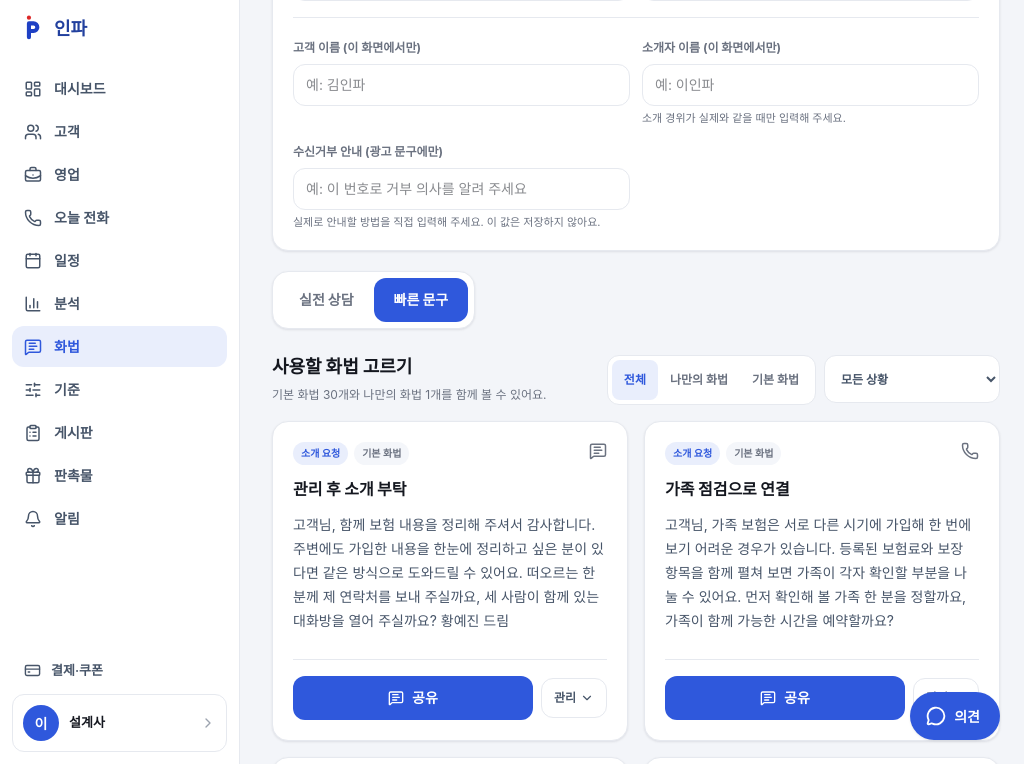
/scripts page state › filters all, personal, and default templates with accessible selected state
The image size is (1024, 764).
(page scrolled)
Click the button "나만의 화법": point(699, 380) 658,360 -> 740,400
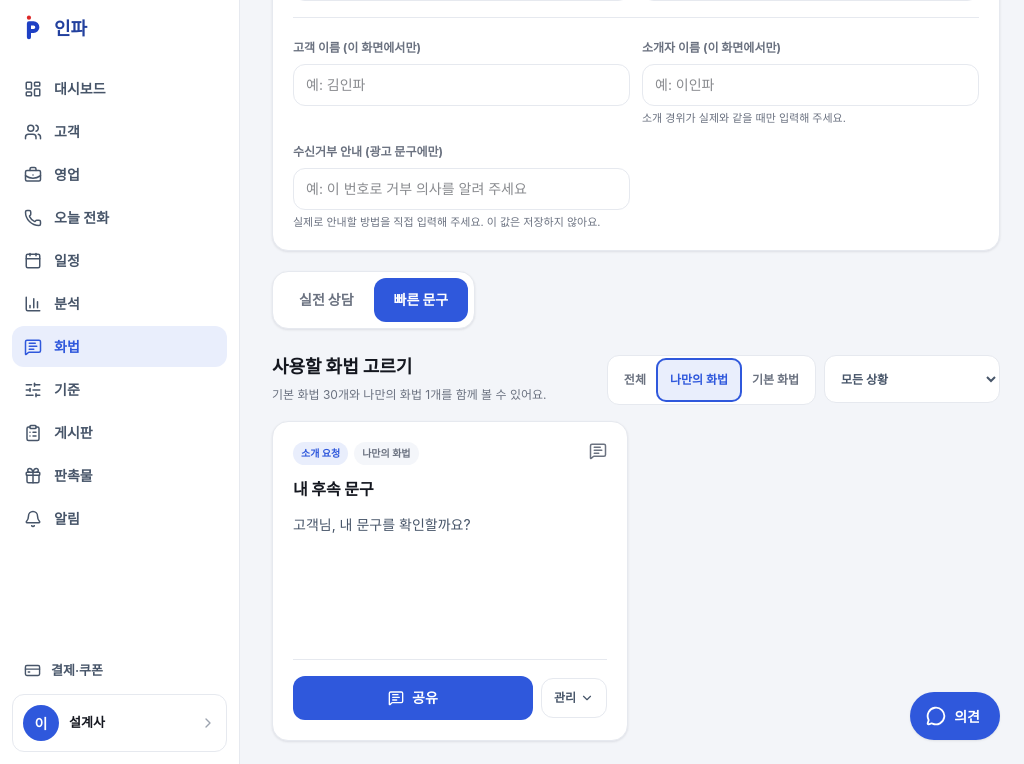
Check: the heading "내 후속 문구" is shown, box 293,479 -> 374,499
Check: the heading "관리 후 소개 부탁" is gone
Click the button "기본 화법": point(776, 380) 740,360 -> 811,400
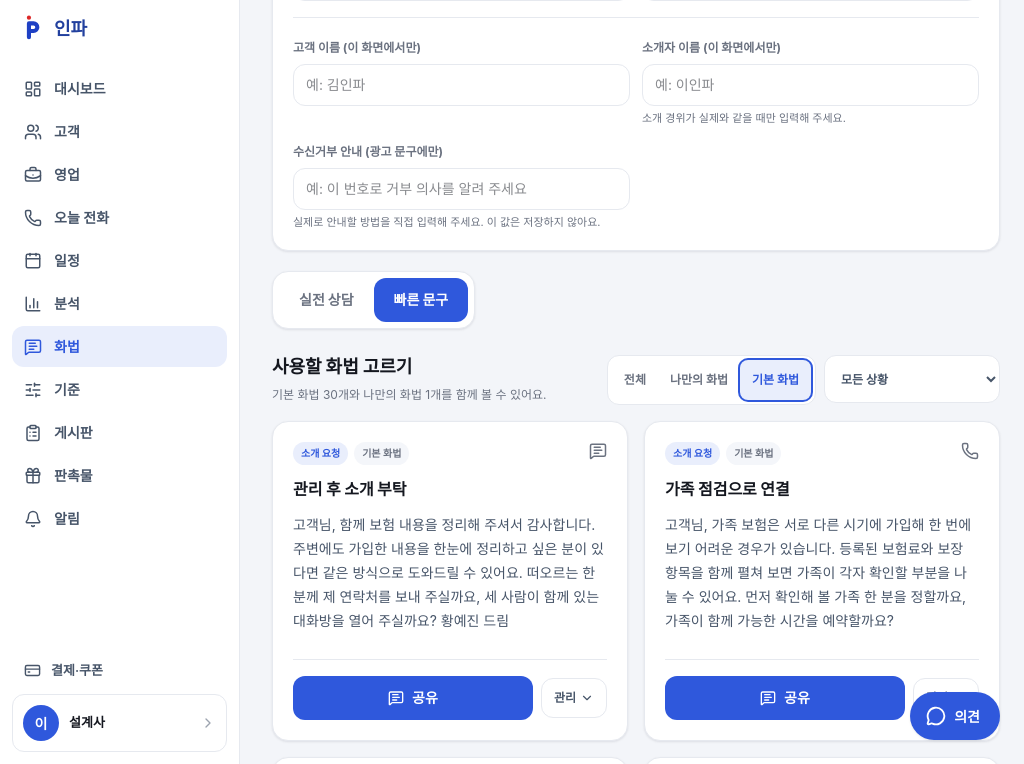
Check: the heading "내 후속 문구" is gone
Check: the heading "관리 후 소개 부탁" is shown, box 293,477 -> 409,501
